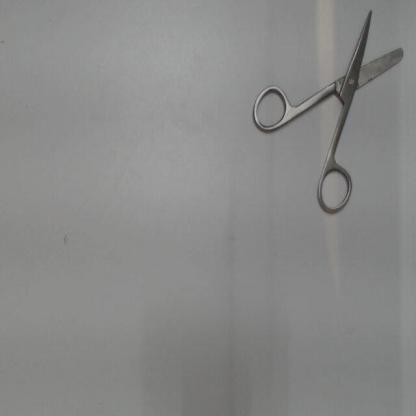Dressing Scissors: (243, 1, 408, 227)
